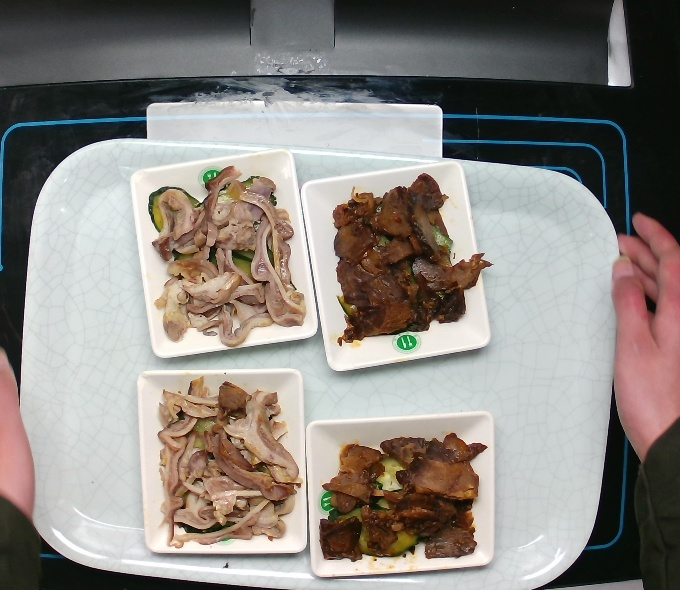wcq-JiangNiuRou: (319, 173, 487, 355), (306, 422, 496, 572)
wcq-ZhuDu: (140, 161, 310, 354), (143, 368, 308, 560)
